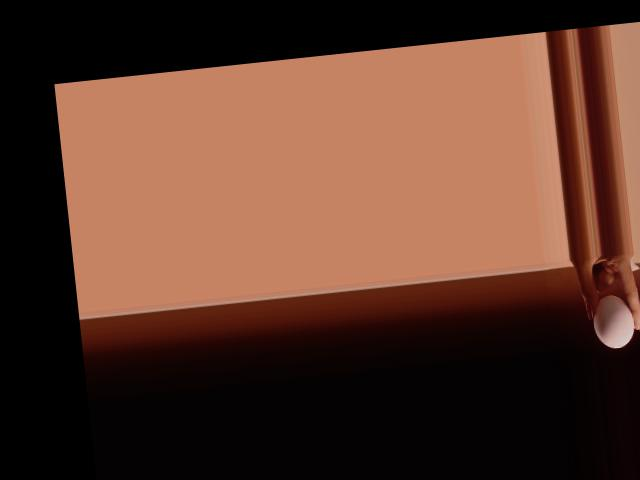egg: (590, 292, 636, 350)
